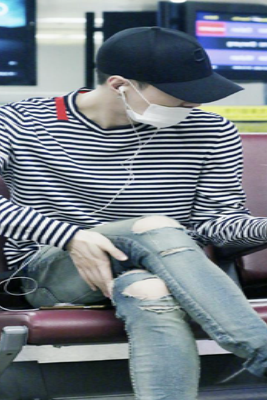mask_weared_incorrect: (126, 84, 200, 131)
